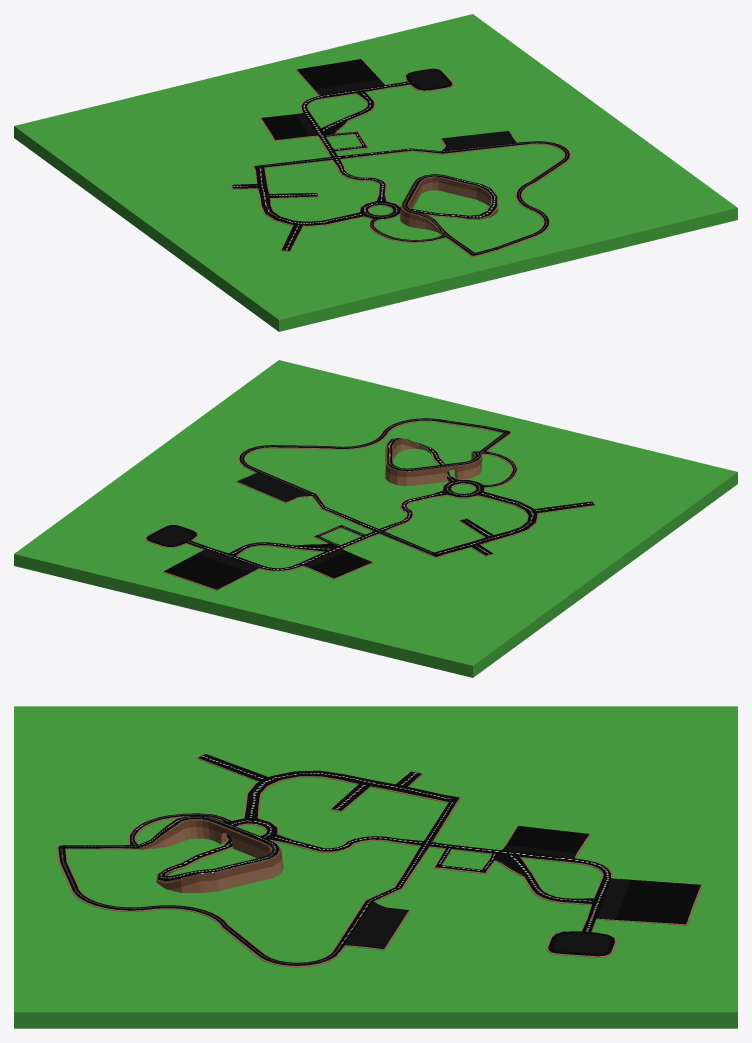
Rendered from level2.fbx.
3 views of the same model, one above another, from view 1: azimuth 30°, elevation 25°; view 2: azimuth 150°, elevation 25°; view 3: azimuth 270°, elevation 25° (orthographic). The views are drawn at different scales.
Parts seen in each view (by area): view 1: Plane, Cube.001, Cube; view 2: Plane, Cube.001, Cube; view 3: Plane, Cube.001, Cube.
Part boxes in pixels (box(x1,y1,x2,y2)): Plane: box(14, 14, 737, 331); Cube.001: box(232, 59, 569, 255); Cube: box(231, 59, 571, 256); Plane: box(14, 360, 737, 677); Cube.001: box(146, 418, 594, 589); Cube: box(145, 418, 595, 590); Plane: box(14, 706, 737, 1028); Cube.001: box(58, 754, 700, 966); Cube: box(56, 753, 702, 967).
Bounding box in the file's own units: 51073 × 2892 × 51073.
4 materials, 1 textured.
